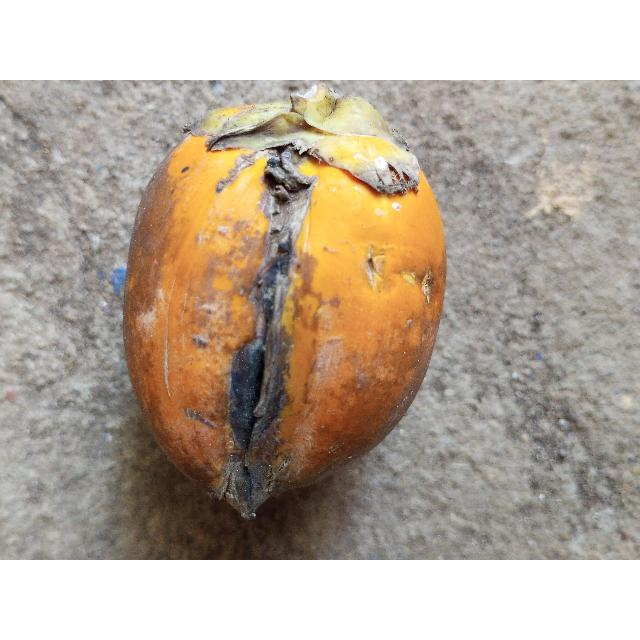damaged: (124, 84, 446, 519)
